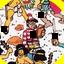waldo: (26, 13, 38, 29)
